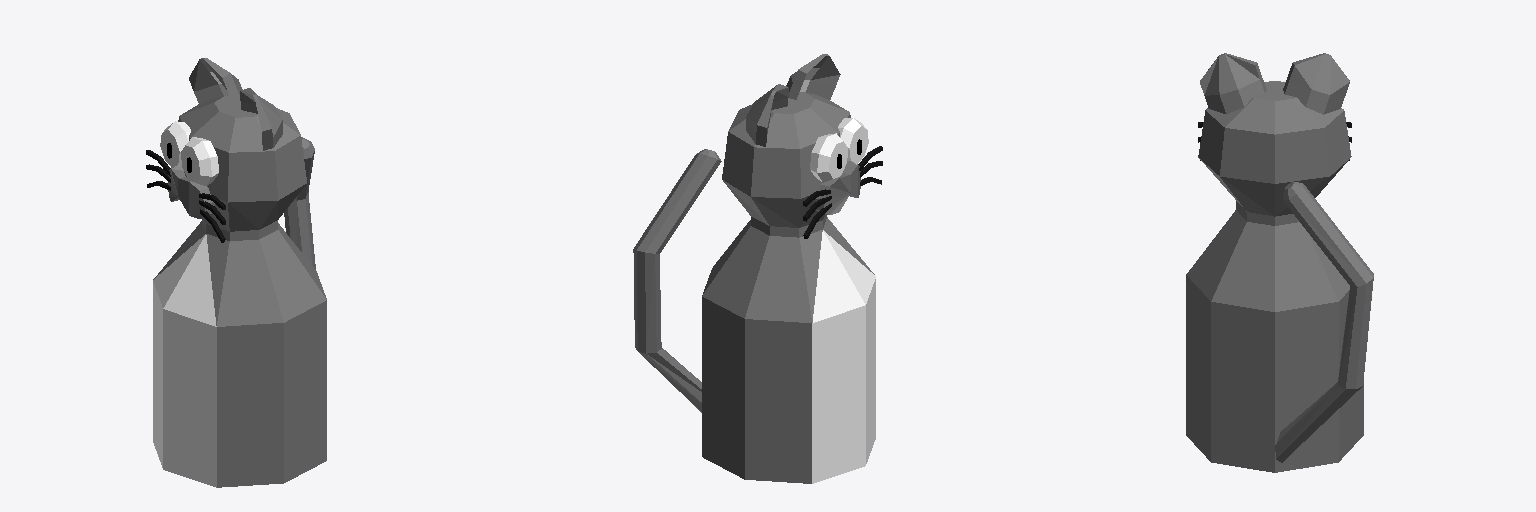
Rendered from cat.obj.
3 views of the same model, side by side, from view 1: azimuth 30°, elevation 25°; view 2: azimuth 150°, elevation 25°; view 3: azimuth 270°, elevation 25° (orthographic).
Parts seen in each view (by area): view 1: Cube1, Cube5; view 2: Cube1, Cube5; view 3: Cube1, Cube5.
Part boxes in pixels (x1,y1,x2,y2): Cube1: (146,58,326,487); Cube5: (284,137,315,269); Cube1: (702,54,882,483); Cube5: (633,149,721,412); Cube1: (1186,53,1363,472); Cube5: (1275,182,1373,462).
Bounding box in the file's own units: 2.48 × 4.69 × 2.11.